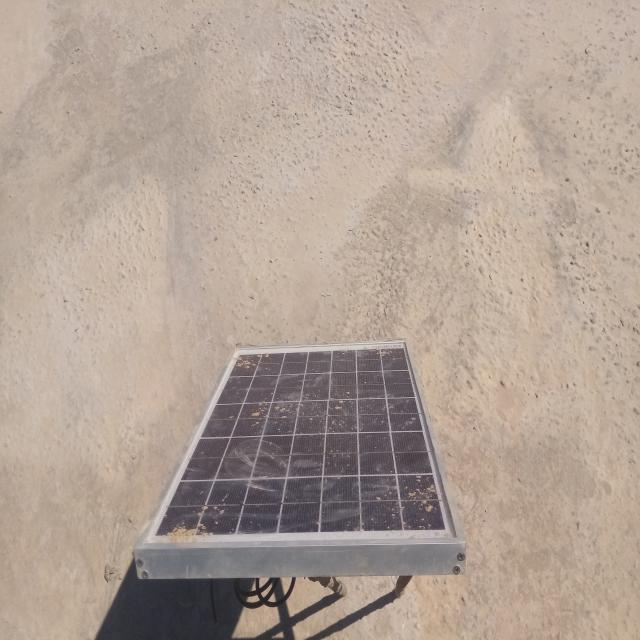faulty: (134, 340, 464, 550)
